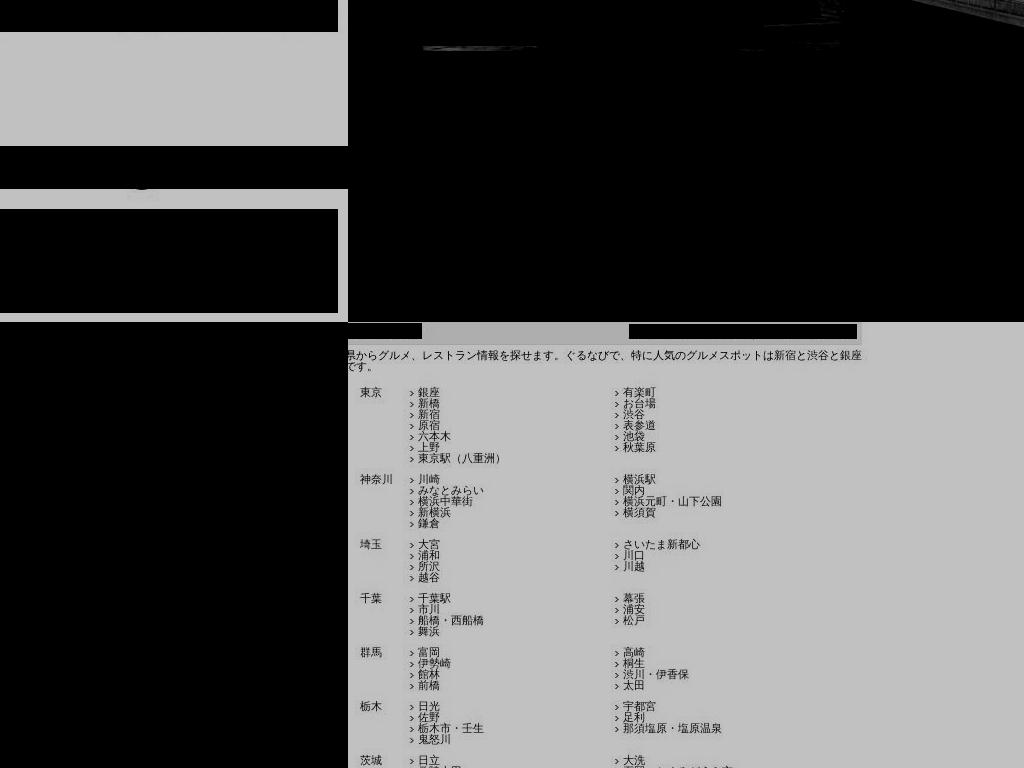button: (348, 0, 764, 46), (2, 592, 129, 636), (612, 495, 722, 507), (612, 722, 722, 734), (348, 323, 422, 339), (408, 452, 506, 464), (612, 538, 700, 550), (612, 668, 689, 680), (408, 484, 484, 496), (408, 614, 484, 626), (408, 722, 484, 734), (408, 495, 473, 507), (348, 126, 372, 154), (612, 386, 656, 398), (612, 397, 656, 409), (612, 419, 656, 431), (612, 441, 656, 453), (612, 473, 656, 485), (612, 506, 656, 518), (612, 700, 656, 712), (408, 430, 451, 442), (408, 506, 451, 518), (408, 592, 451, 604), (408, 657, 451, 669), (408, 733, 451, 745), (612, 408, 645, 420), (612, 430, 645, 442), (612, 484, 645, 496), (612, 549, 645, 561), (612, 560, 645, 572), (612, 592, 645, 604), (612, 603, 645, 615), (612, 614, 645, 626), (612, 646, 645, 658), (612, 657, 645, 669), (612, 679, 645, 691), (612, 711, 645, 723), (612, 754, 645, 766), (408, 386, 440, 398), (408, 397, 440, 409), (408, 408, 440, 420), (408, 419, 440, 431), (408, 441, 440, 453), (408, 473, 440, 485), (408, 517, 440, 529), (408, 538, 440, 550), (408, 549, 440, 561), (408, 560, 440, 572), (408, 571, 440, 583), (408, 603, 440, 615), (408, 625, 440, 637), (408, 646, 440, 658), (408, 668, 440, 680), (408, 679, 440, 691), (408, 700, 440, 712), (408, 711, 440, 723), (408, 754, 440, 766), (612, 765, 733, 768), (408, 765, 462, 768)
heading: (0, 146, 348, 189), (0, 516, 309, 545), (348, 283, 552, 301), (348, 323, 422, 339), (360, 473, 393, 485), (360, 386, 382, 398), (360, 538, 382, 550), (360, 592, 382, 604), (360, 646, 382, 658), (360, 700, 382, 712), (360, 754, 382, 766), (348, 387, 360, 398)
image: (0, 322, 348, 768), (348, 0, 764, 46)
link: (774, 349, 796, 361), (807, 349, 829, 361), (840, 349, 862, 361)
text: (0, 209, 338, 313), (348, 196, 1024, 238), (348, 242, 991, 261), (0, 548, 309, 581), (348, 349, 774, 361), (629, 324, 857, 339), (26, 604, 93, 624), (348, 130, 372, 149), (348, 360, 378, 372), (796, 349, 807, 361), (829, 349, 840, 361)
